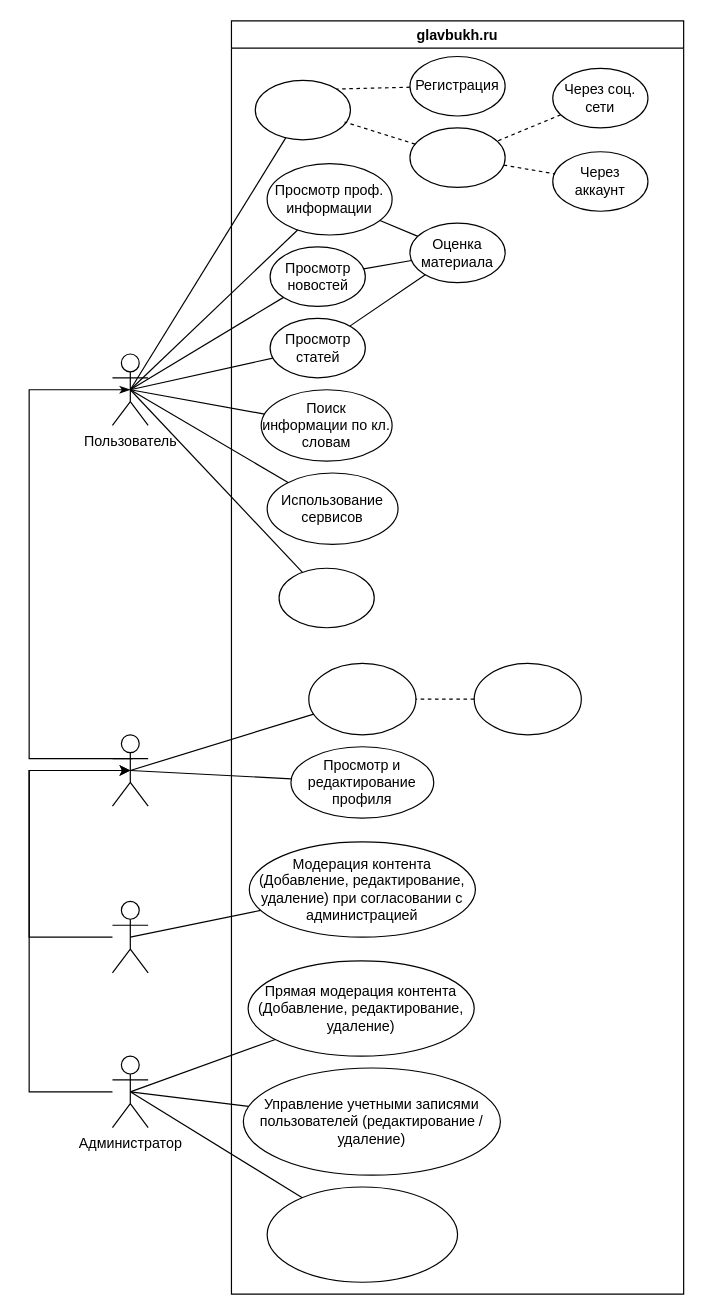
The diagram is 704 pixels wide and 1315 high, and some of its shapes have lost their labels. The box of each missing label's shape, as (x1, y1, x2, y2) in pixels:
Авторизация: (409, 127, 505, 187)
Авторизованный пользователь: (111, 734, 148, 806)
Вход в систему: (254, 79, 350, 140)
Добавление материала в избранное: (308, 662, 416, 735)
Одобрение запросов на модерацию контента: (266, 1186, 458, 1282)
Оплата обучения: (278, 567, 374, 628)
Просмотр избранного: (473, 662, 581, 735)
Редактор: (111, 900, 148, 973)
